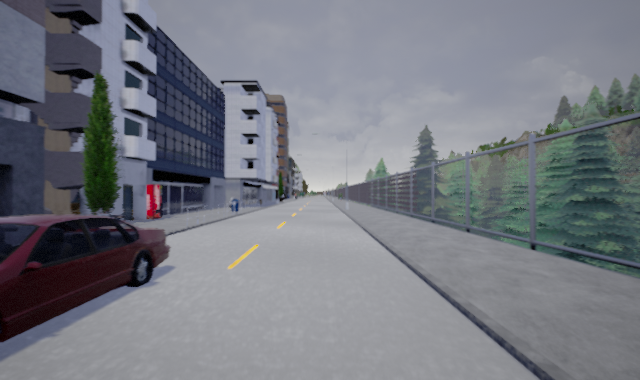vehicle: (1, 207, 169, 344)
